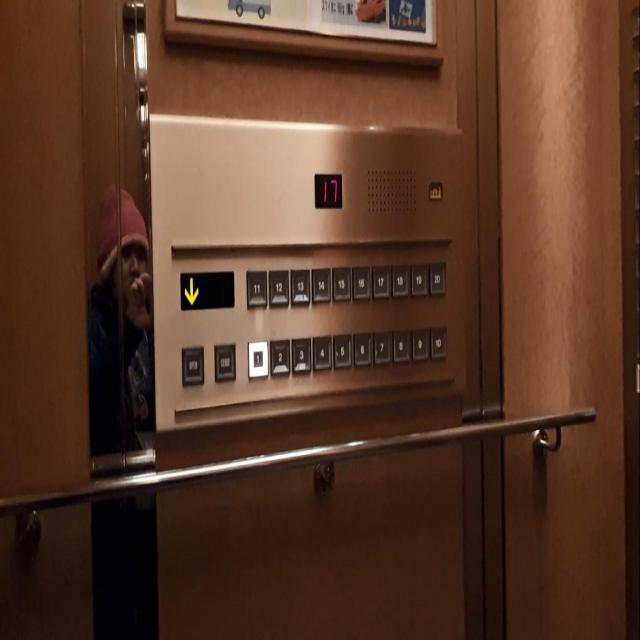1: (246, 338, 269, 382)
10: (430, 325, 448, 360)
11: (245, 268, 268, 310)
12: (268, 267, 290, 309)
13: (289, 267, 311, 309)
14: (310, 265, 331, 305)
15: (331, 264, 352, 304)
16: (351, 263, 371, 302)
17: (370, 262, 390, 300)
18: (390, 261, 409, 299)
19: (410, 261, 428, 297)
2: (269, 336, 290, 380)
20: (428, 259, 447, 297)
3: (290, 334, 312, 377)
4: (311, 332, 332, 373)
5: (332, 331, 352, 370)
6: (352, 329, 372, 369)
7: (372, 326, 392, 366)
8: (392, 328, 410, 364)
9: (411, 326, 429, 362)
call: (428, 177, 443, 201)
down: (179, 268, 235, 314)
led: (312, 170, 343, 209)
text_close door: (212, 341, 236, 385)
text_open door: (180, 342, 205, 389)
